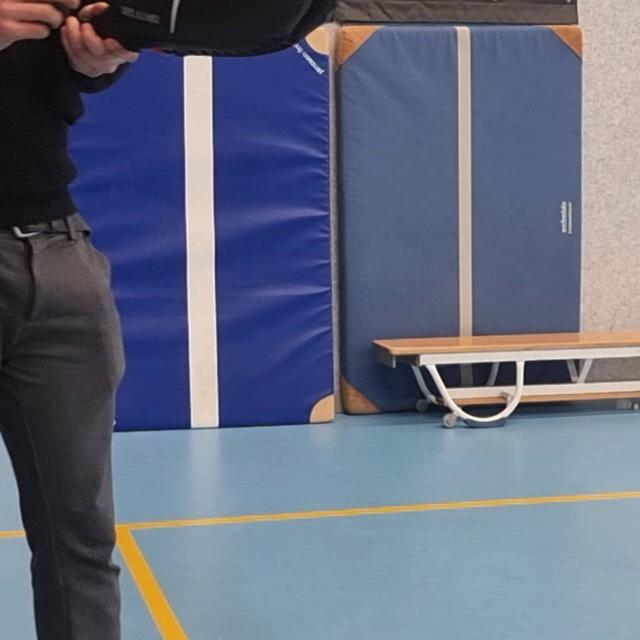paddle: (72, 0, 355, 53)
